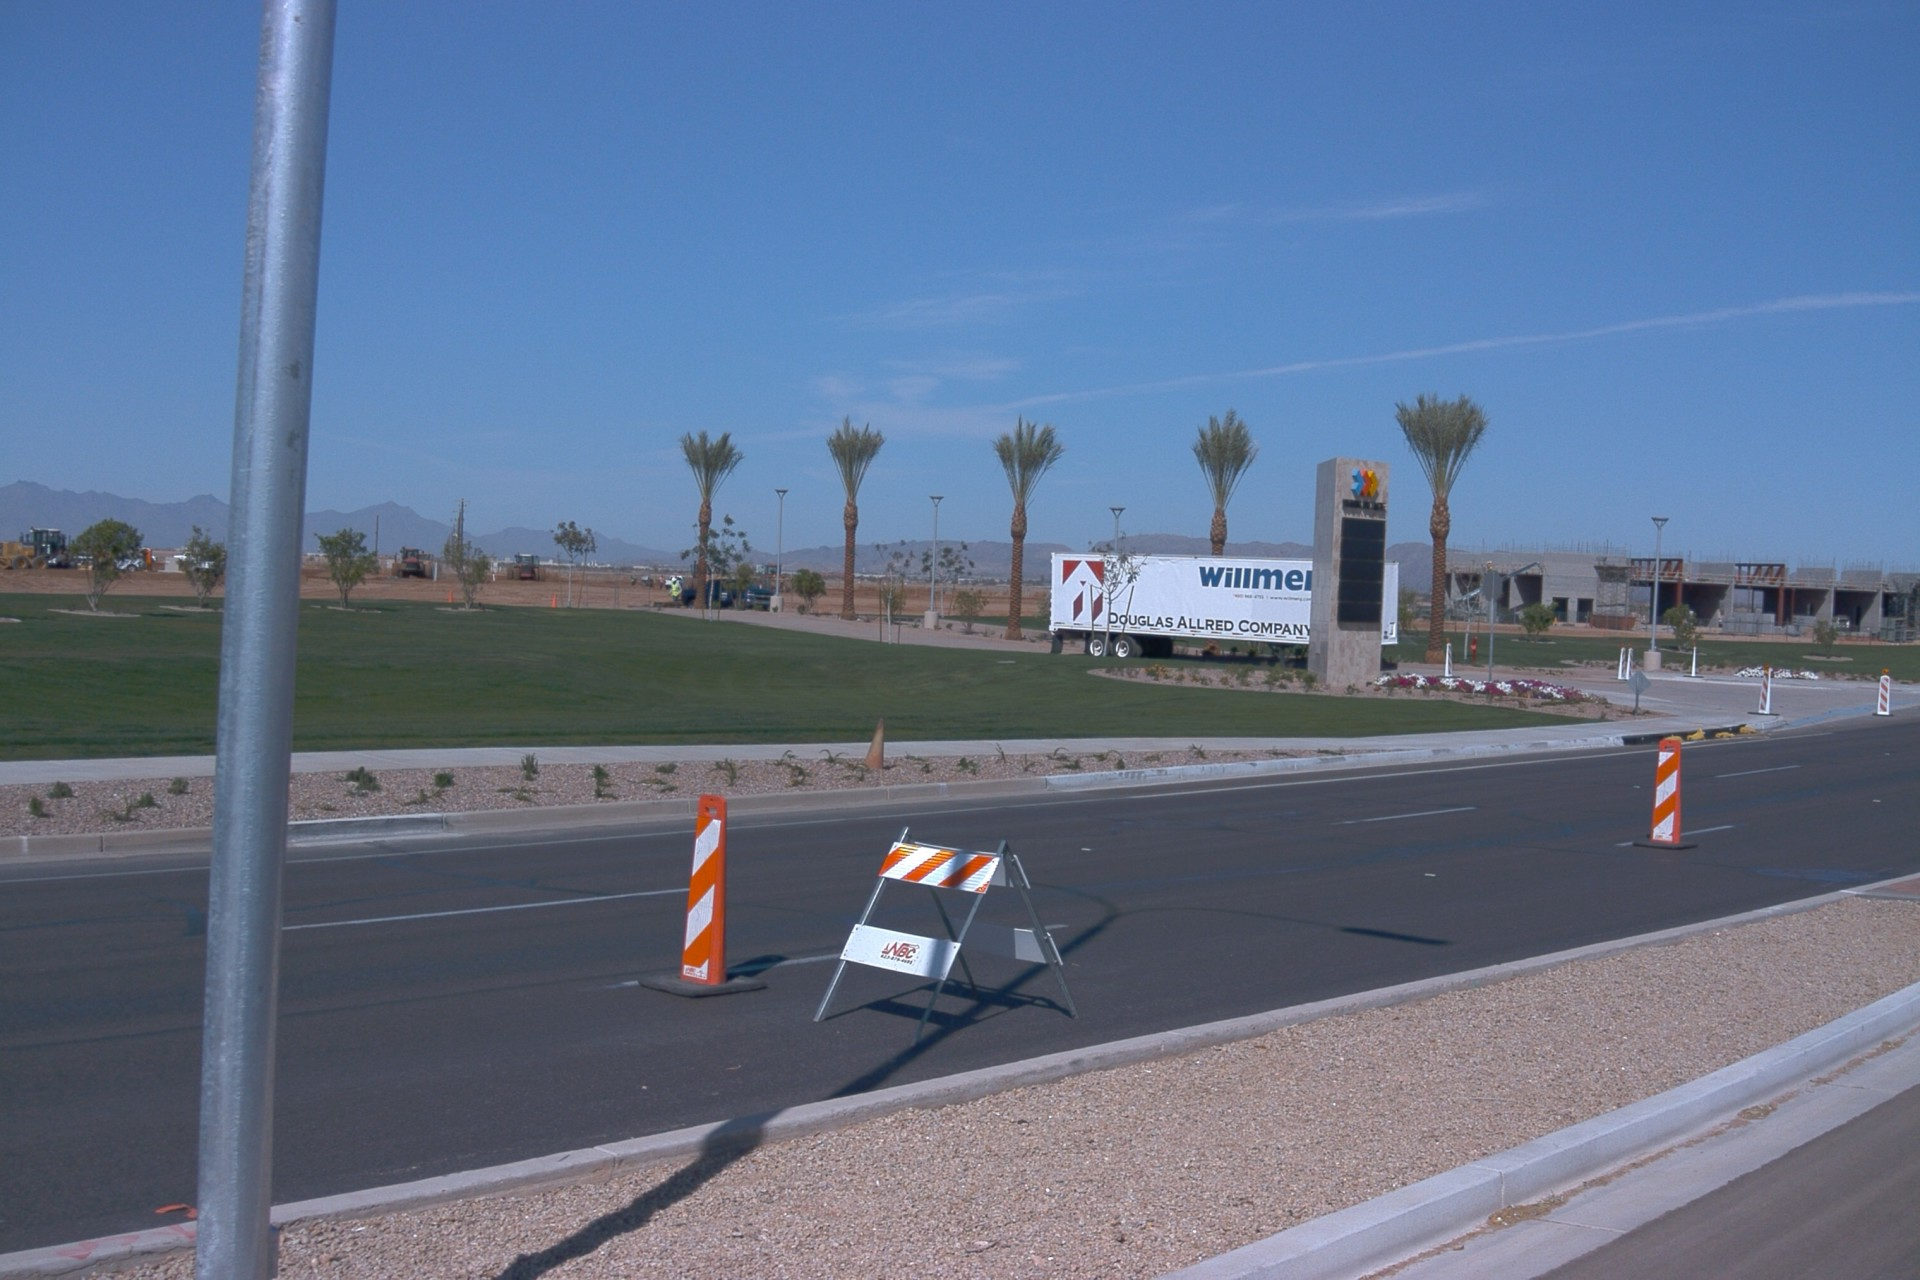TYPE_PEDESTRIAN: (667, 576, 682, 608), (656, 574, 664, 590), (629, 573, 637, 586)
TYPE_VEHICLE: (1044, 544, 1401, 658), (0, 521, 117, 571), (1453, 557, 1544, 608), (682, 573, 774, 607), (386, 547, 431, 582), (74, 555, 146, 575), (502, 552, 547, 583), (192, 554, 235, 575), (421, 553, 436, 572), (172, 550, 195, 561), (668, 576, 686, 589), (153, 555, 159, 561)
